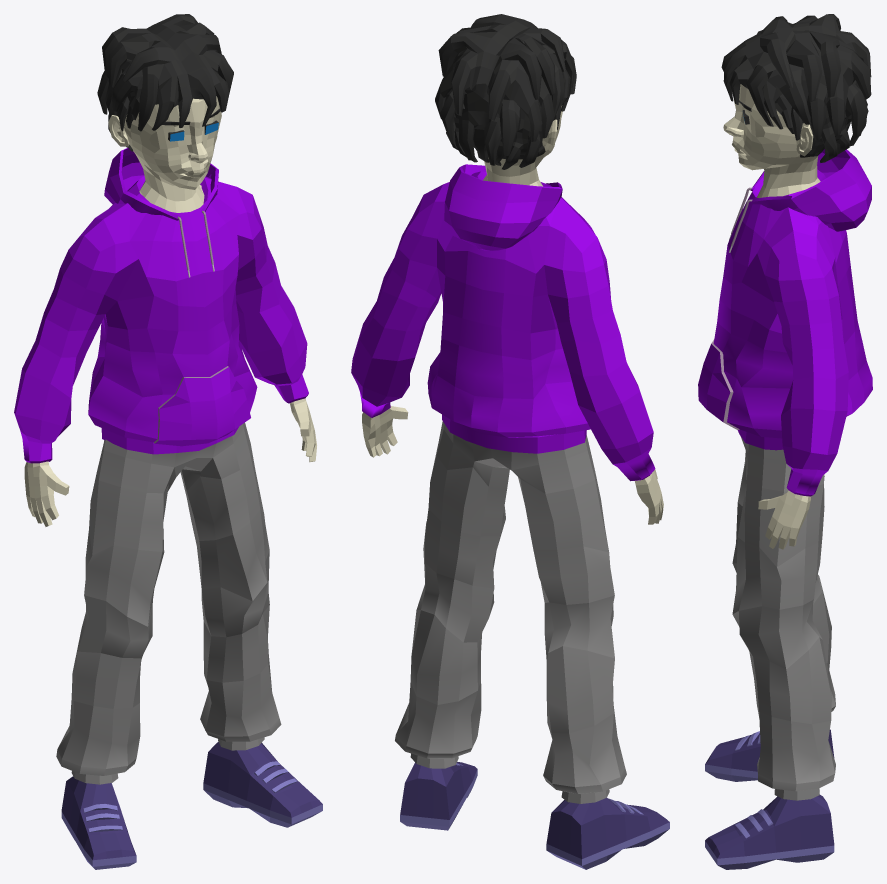
Rendered from Emit.fbx.
3 renders of one model, left to right at view 1: azimuth 30°, elevation 25°; view 2: azimuth 150°, elevation 25°; view 3: azimuth 270°, elevation 25°, orthographic. The views are drawn at different scales.
Parts seen in each view (by area): view 1: polySurface1, trousers_low, body_low, hair_low, polySurface2, hood_low; view 2: polySurface1, trousers_low, hair_low, body_low, hood_low; view 3: polySurface1, trousers_low, body_low, hair_low, hood_low, polySurface2.
Part boxes in pixels (x1,y1,x2,y2): polySurface1: (14,176,308,463); trousers_low: (56,422,281,784); body_low: (24,96,322,869); hair_low: (97,14,233,151); polySurface2: (154,366,250,446); hood_low: (104,148,218,220); polySurface1: (351,171,655,481); trousers_low: (395,421,626,803); hair_low: (435,14,576,169); body_low: (362,105,669,869); hood_low: (444,164,562,250); polySurface1: (713,169,872,496); trousers_low: (732,436,835,800); body_low: (705,84,834,869); hair_low: (721,14,871,162); hood_low: (750,149,871,231); polySurface2: (698,339,739,429).
Size of the model in its own units: 67.45 by 174 by 34.82.
